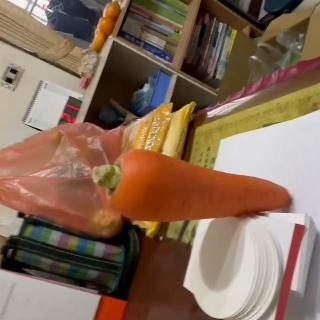carrot: (88, 147, 290, 221)
